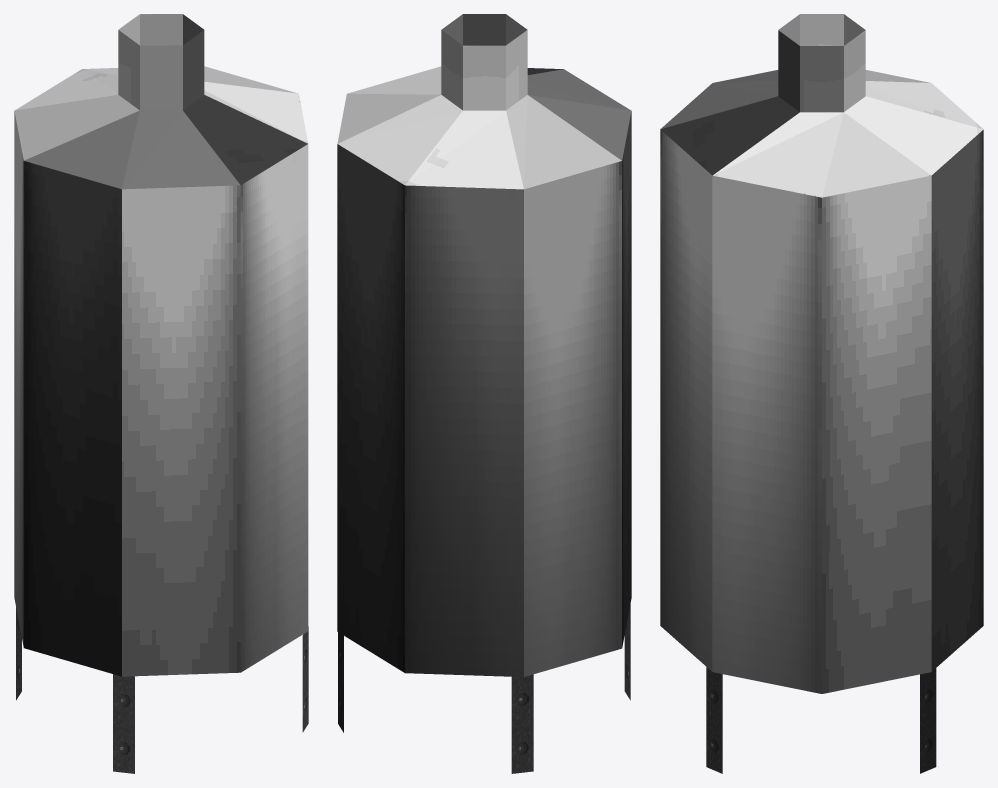
File: poison_gas_tank.glb
3 renders of one model, left to right at view 1: azimuth 30°, elevation 25°; view 2: azimuth 150°, elevation 25°; view 3: azimuth 270°, elevation 25°, orthographic.
Visible parts, largest first — view 1: Object; view 2: Object; view 3: Object.
Part boxes in pixels (box(x1,y1,x2,y2)): Object: box(14, 14, 308, 773); Object: box(337, 14, 631, 773); Object: box(660, 14, 983, 773).
Size of the model in its own units: 2.51 by 5.94 by 2.51.
21 materials, 21 textured.
